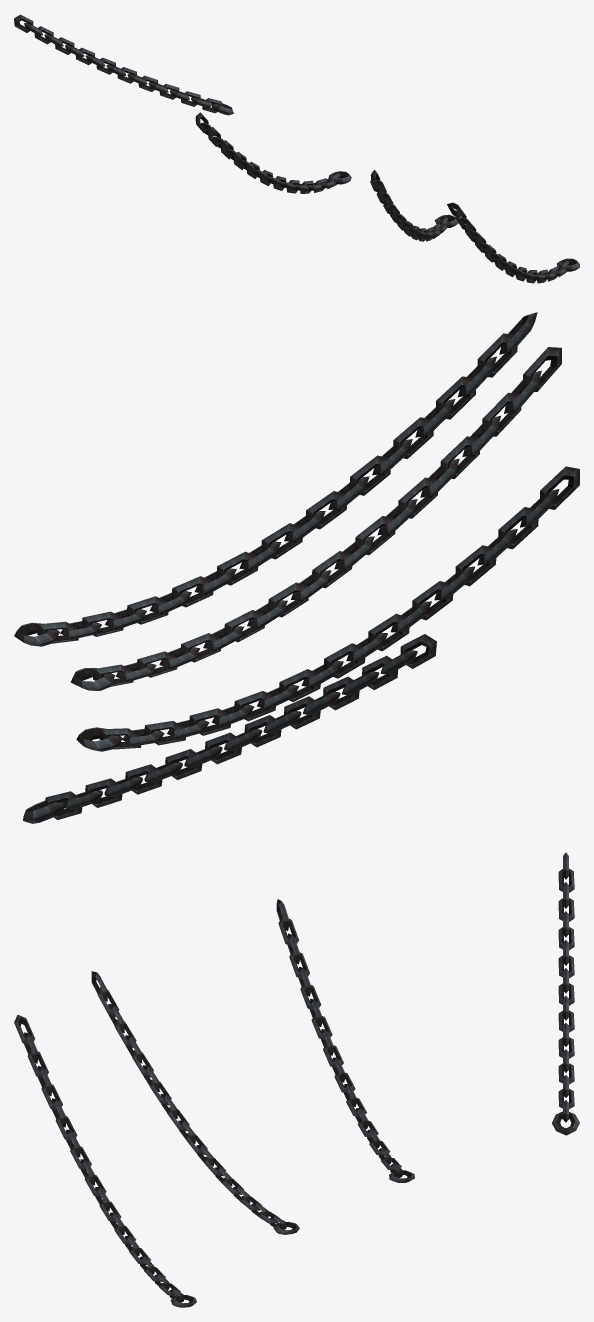
File: fengbaozhita_05_B_5.FBX
3 renders of one model, top to bottom at view 1: azimuth 30°, elevation 25°; view 2: azimuth 150°, elevation 25°; view 3: azimuth 270°, elevation 25°, orthographic. The views are drawn at different scales.
Parts seen in each view (by area): view 1: fengbaozhita_05_B_5; view 2: fengbaozhita_05_B_5; view 3: fengbaozhita_05_B_5.
Part boxes in pixels (x1,y1,x2,y2): fengbaozhita_05_B_5: [14, 14, 579, 283]; fengbaozhita_05_B_5: [14, 312, 579, 823]; fengbaozhita_05_B_5: [14, 852, 579, 1307].
Bounding box in the file's own units: 4403 × 2381 × 4912.
